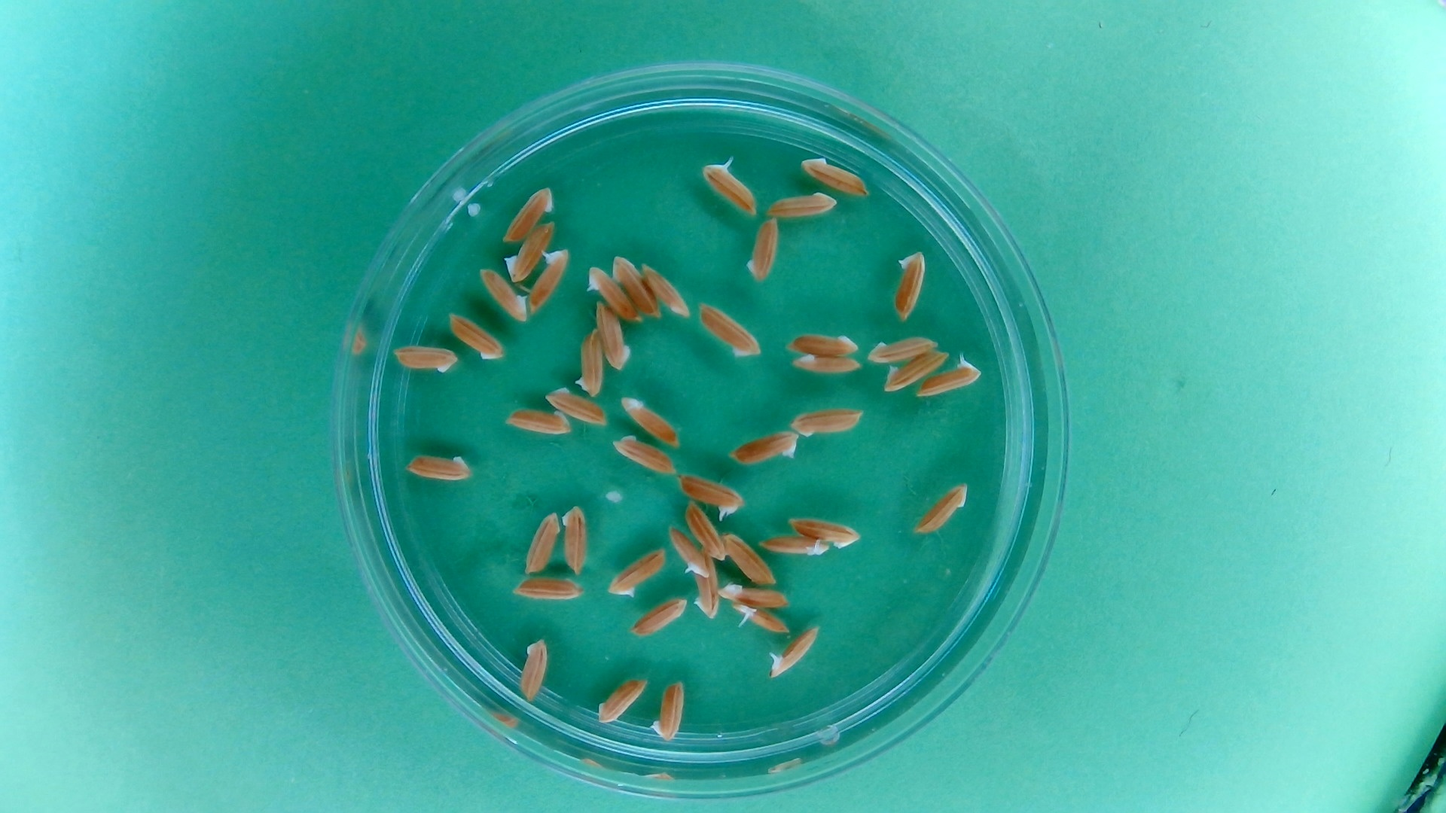no: (694, 299, 764, 361), (583, 262, 642, 323), (610, 251, 662, 320), (620, 393, 683, 449), (504, 218, 557, 283), (798, 152, 871, 198), (501, 184, 556, 245), (445, 310, 506, 364), (880, 348, 951, 394), (721, 528, 777, 586), (640, 258, 691, 321), (912, 481, 970, 536), (476, 265, 530, 324), (606, 547, 668, 598), (889, 248, 929, 324), (683, 499, 728, 565), (727, 428, 801, 468), (609, 434, 677, 477), (593, 300, 633, 373), (543, 385, 610, 428), (594, 674, 648, 726), (789, 403, 865, 439), (789, 514, 864, 550), (743, 216, 782, 284), (521, 510, 560, 577), (782, 326, 862, 358), (865, 333, 942, 366), (628, 595, 688, 637), (402, 451, 474, 486), (389, 342, 461, 377), (763, 189, 841, 221), (649, 678, 688, 742), (574, 326, 606, 400), (517, 637, 551, 704), (560, 503, 591, 576), (502, 406, 575, 437), (510, 574, 587, 603), (689, 553, 720, 621), (787, 351, 865, 378), (717, 577, 787, 607)
yes: (701, 159, 759, 217), (677, 472, 744, 519), (528, 246, 571, 315), (767, 625, 821, 679), (916, 356, 981, 400), (667, 525, 712, 580), (725, 601, 790, 635), (756, 531, 831, 559)
